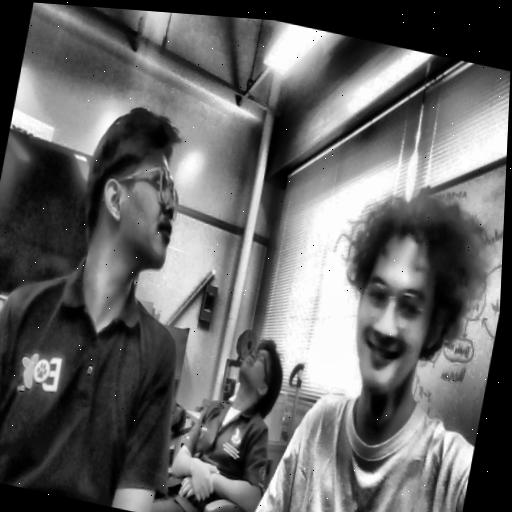Daifuku: (322, 173, 502, 428)
Not Daifuku: (74, 88, 197, 290), (232, 325, 291, 421)
